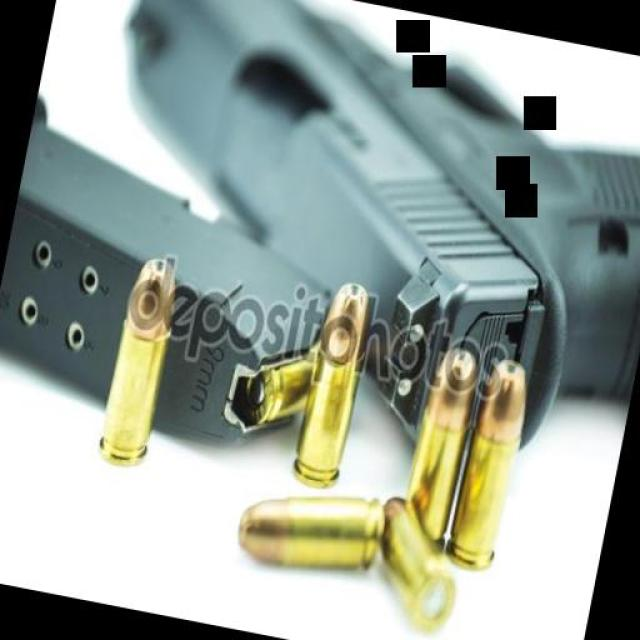gun: (61, 0, 640, 469)
